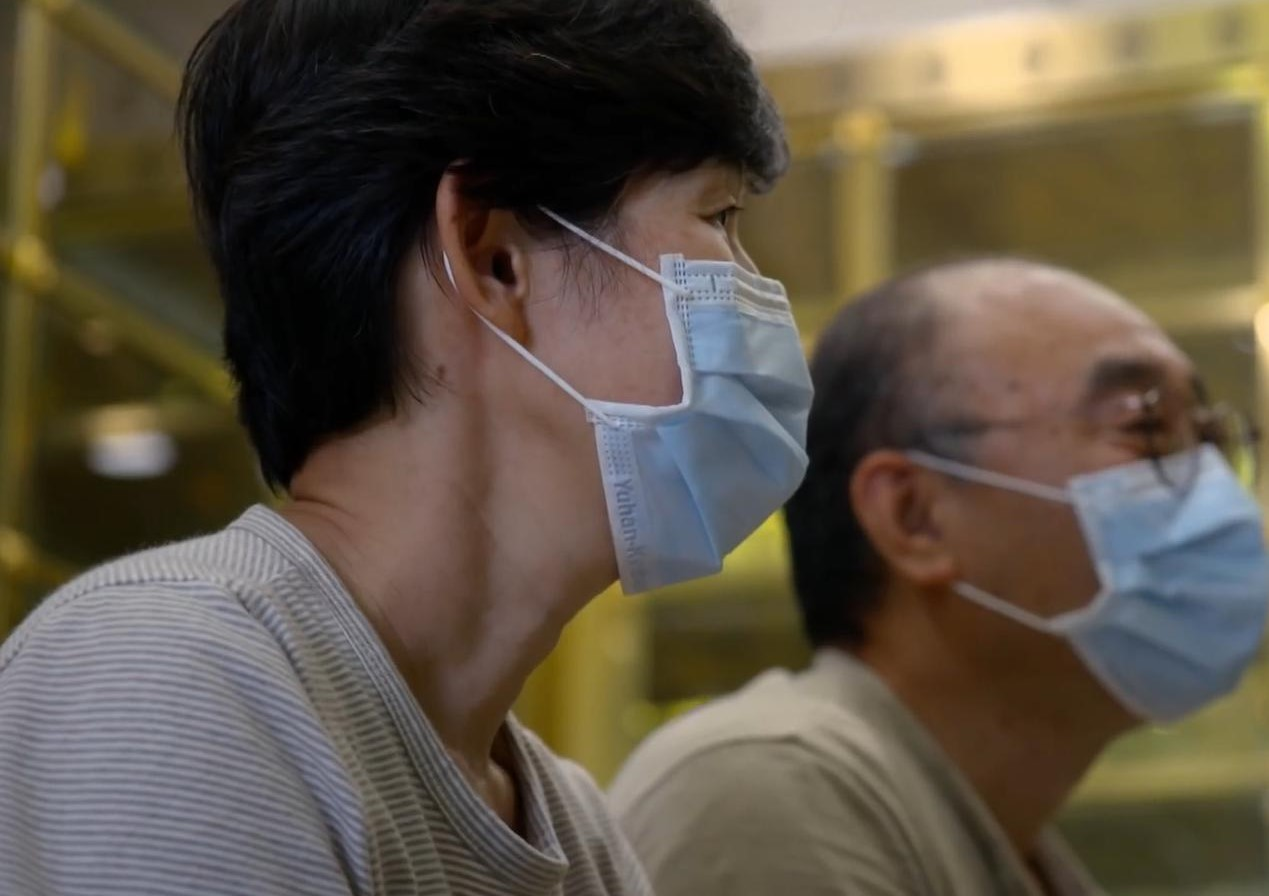with_mask: (566, 157, 752, 524), (998, 344, 1199, 659)
